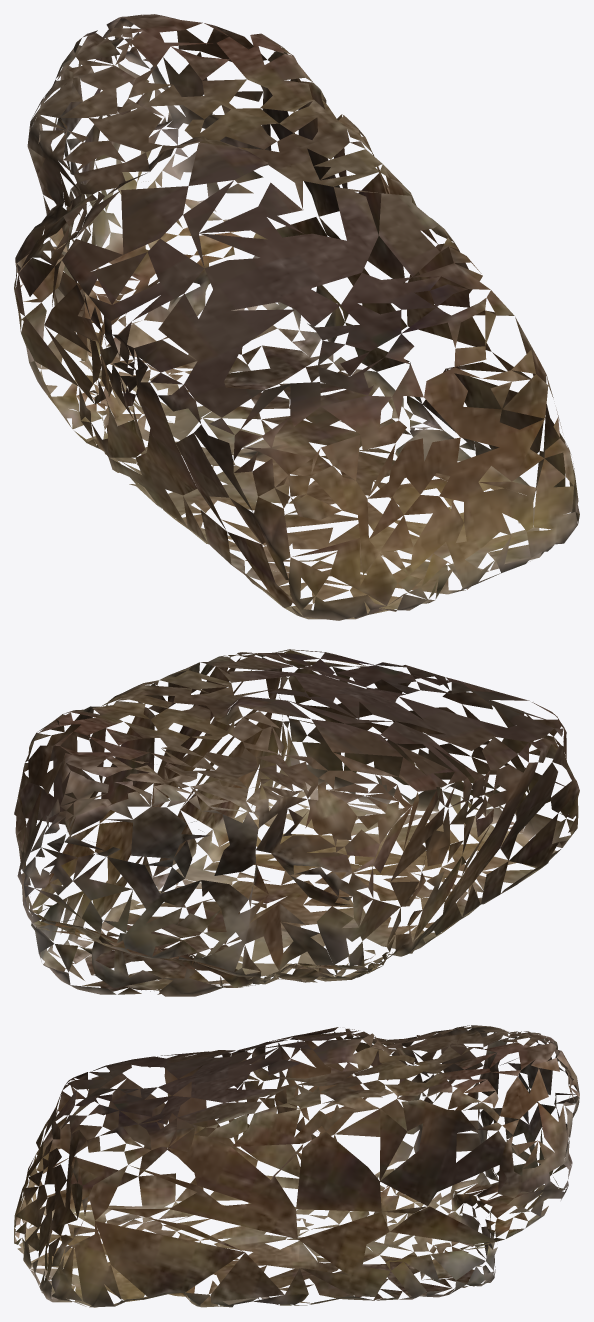
Rendered from rock_07.glb.
3 views of the same model, one above another, from view 1: azimuth 30°, elevation 25°; view 2: azimuth 150°, elevation 25°; view 3: azimuth 270°, elevation 25° (orthographic). The views are drawn at different scales.
Visible parts, largest first — view 1: rock_07; view 2: rock_07; view 3: rock_07.
Part boxes in pixels (x1=…): rock_07: x1=14, y1=14, x2=579, y2=620; rock_07: x1=14, y1=649, x2=579, y2=996; rock_07: x1=14, y1=1025, x2=579, y2=1307.
Bounding box in the file's own units: 0.1686 × 0.1437 × 0.3199.
1 material, 1 textured.
